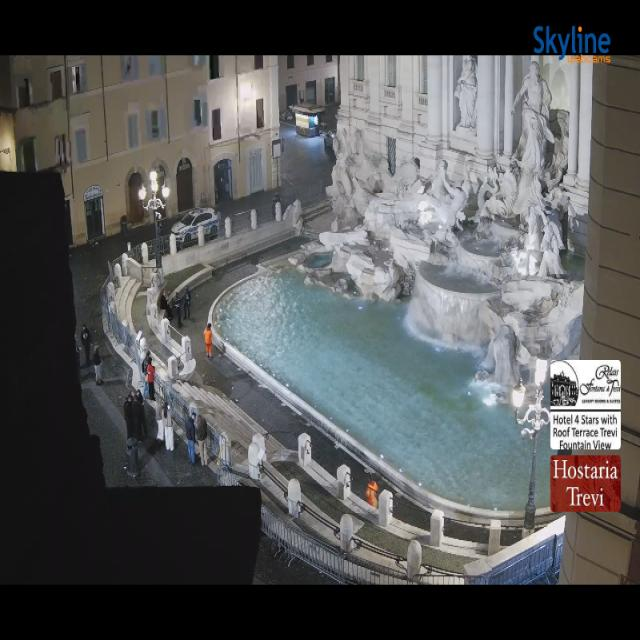person: (133, 390, 147, 439), (196, 415, 208, 465), (163, 402, 174, 450), (185, 412, 195, 464), (124, 393, 135, 438), (81, 325, 92, 365), (141, 352, 150, 397), (147, 357, 155, 401), (173, 292, 182, 328), (94, 345, 102, 385), (156, 402, 164, 441), (204, 323, 212, 358), (75, 336, 81, 379), (184, 286, 191, 318), (164, 304, 173, 323), (160, 291, 167, 310)
